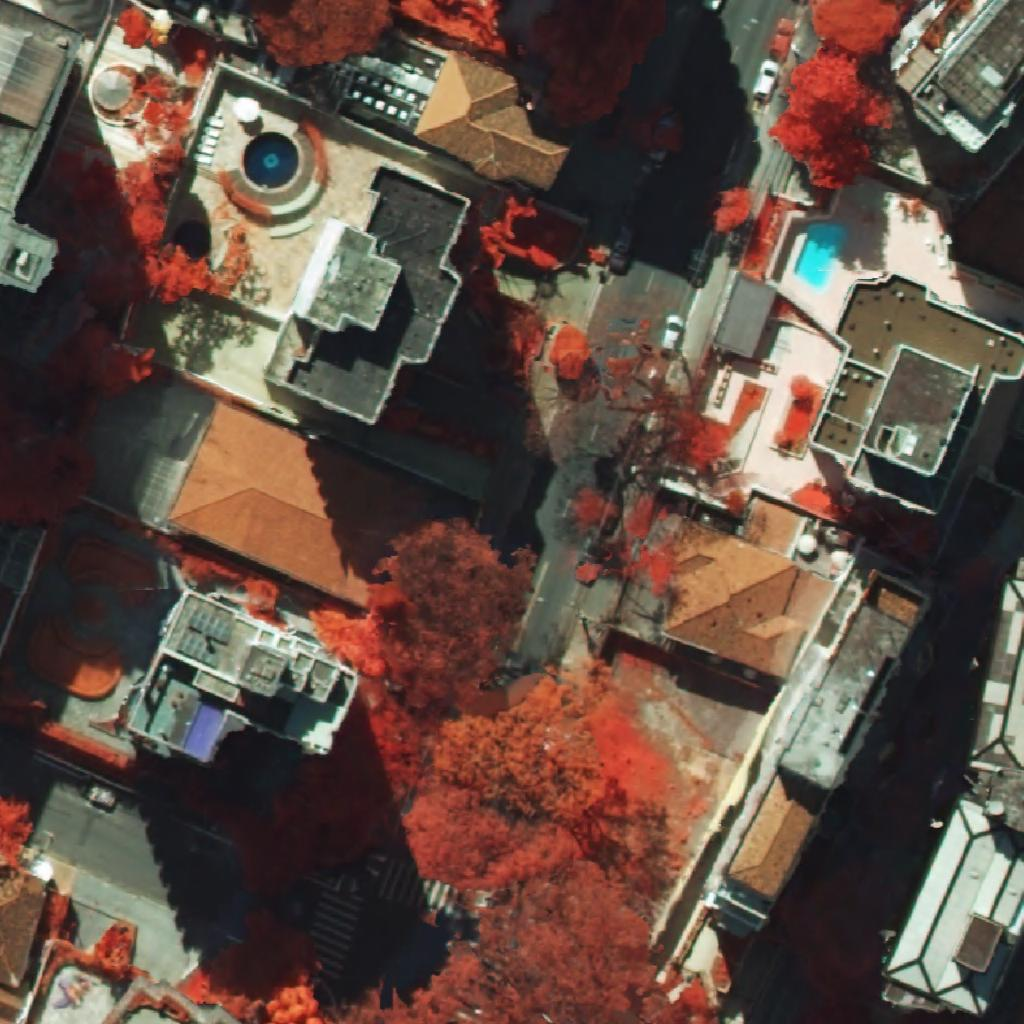pool: (794, 225, 845, 291), (244, 131, 299, 188), (183, 702, 225, 759)
